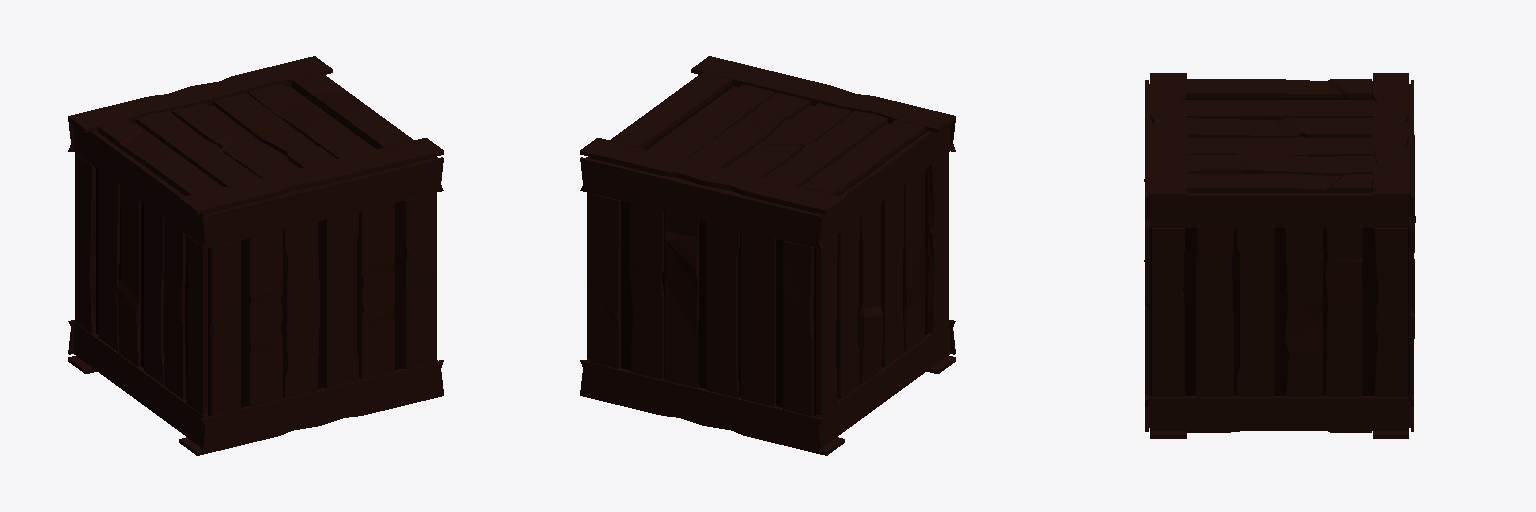
Rendered from Crate.obj.
The picture shows the model from 3 angles: view 1: azimuth 30°, elevation 25°; view 2: azimuth 150°, elevation 25°; view 3: azimuth 270°, elevation 25°; orthographic projection.
Visible parts, largest first — view 1: Crate_Cube.007; view 2: Crate_Cube.007; view 3: Crate_Cube.007.
Part boxes in pixels (bbox=[...]): Crate_Cube.007: bbox=[68, 56, 443, 455]; Crate_Cube.007: bbox=[580, 56, 955, 455]; Crate_Cube.007: bbox=[1144, 73, 1415, 438].
Size of the model in its own units: 1.38 by 1.31 by 1.31.